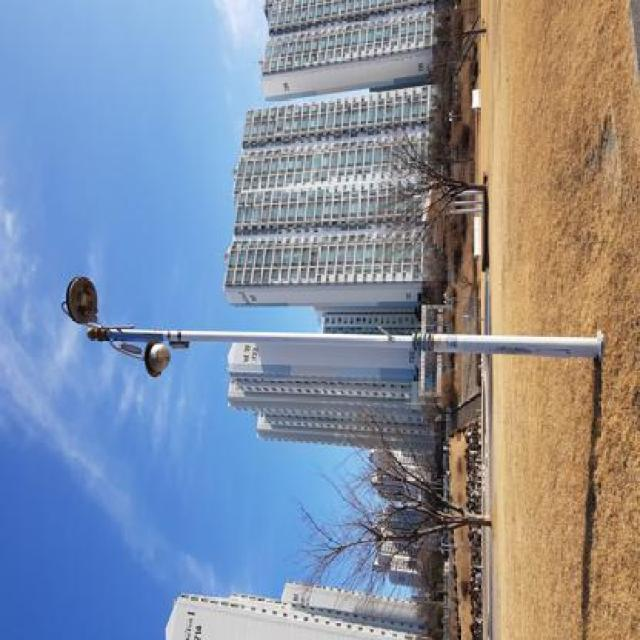pole: (80, 309, 613, 368)
